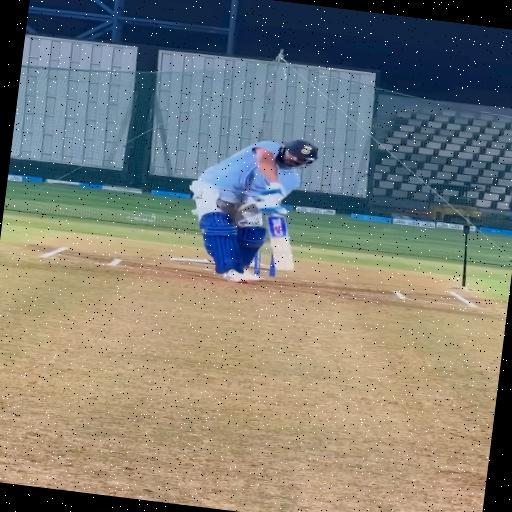Cricket bat: (268, 216, 294, 272)
